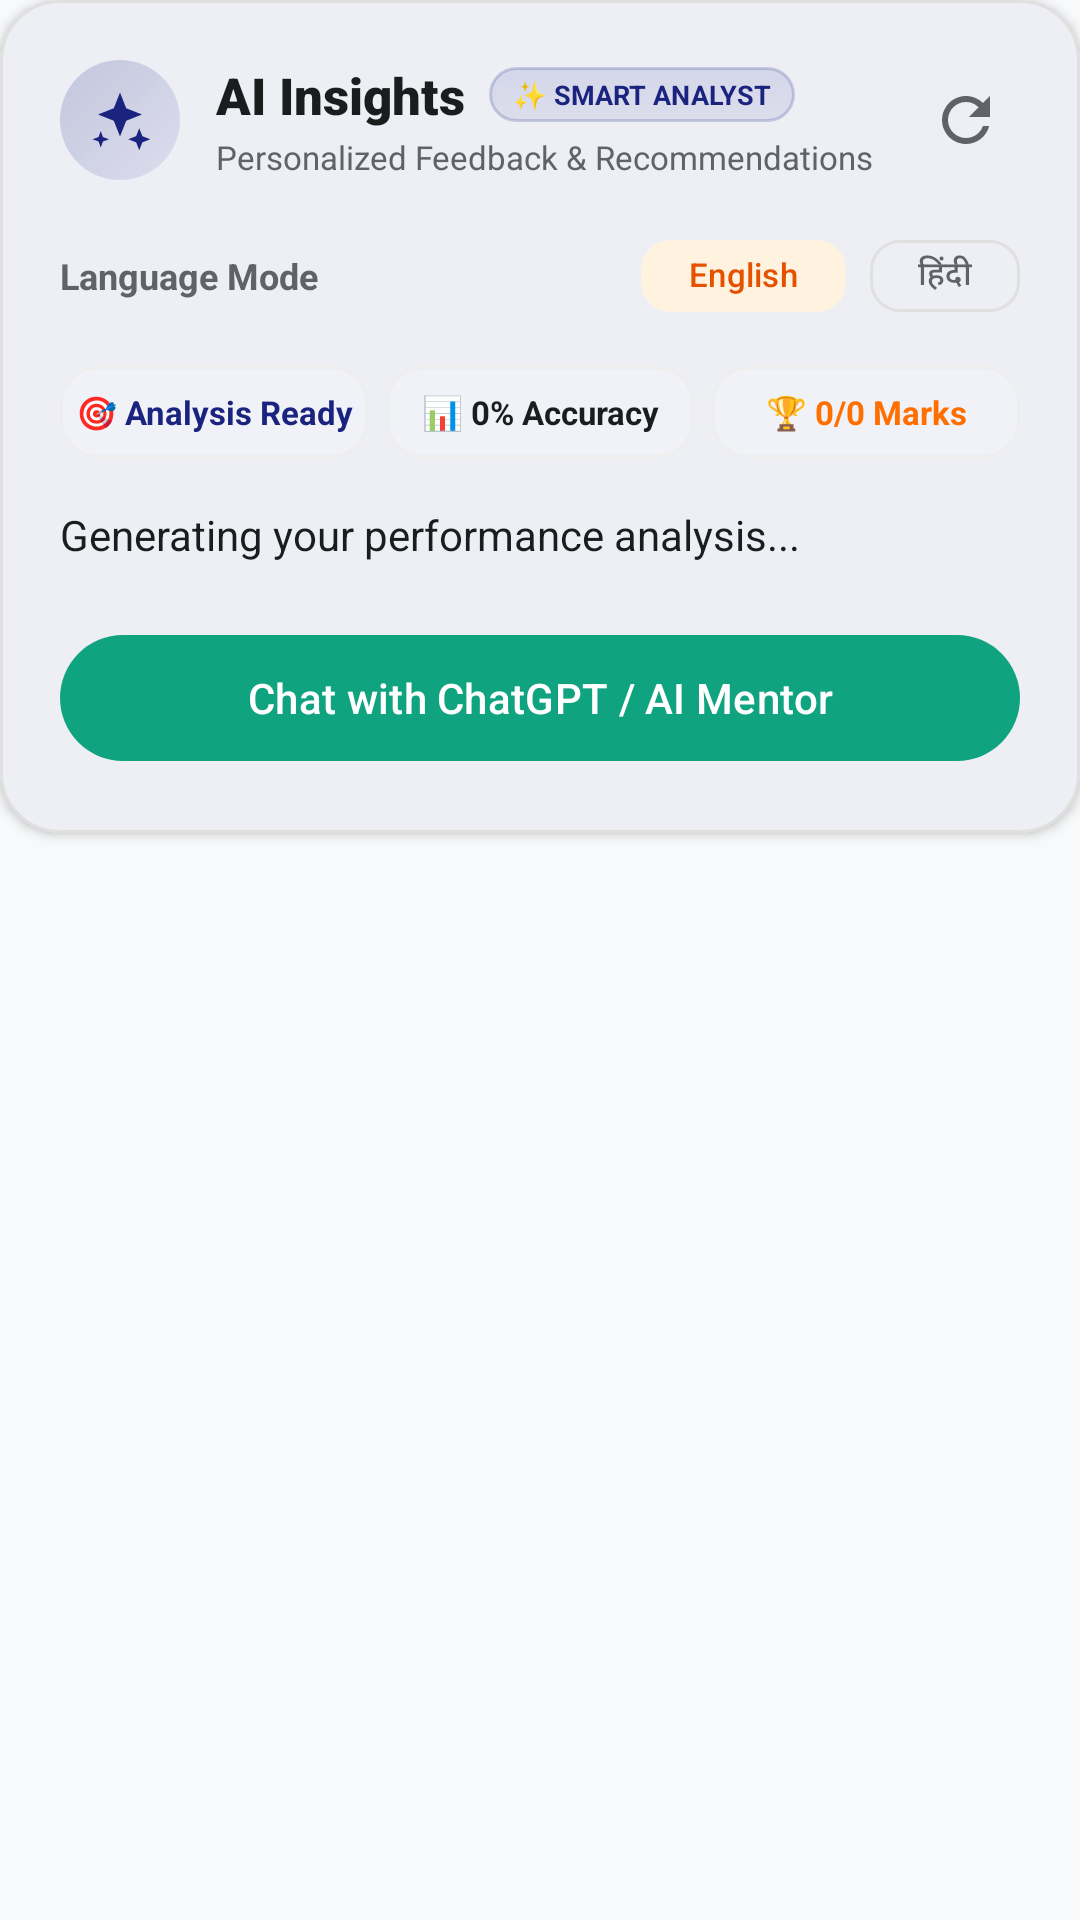

Locate icon controls on the screen. Image size 1080 × 1920, boxes as (x1, y1, x2, y2).
Refresh Analysis: (942, 96, 990, 144)
